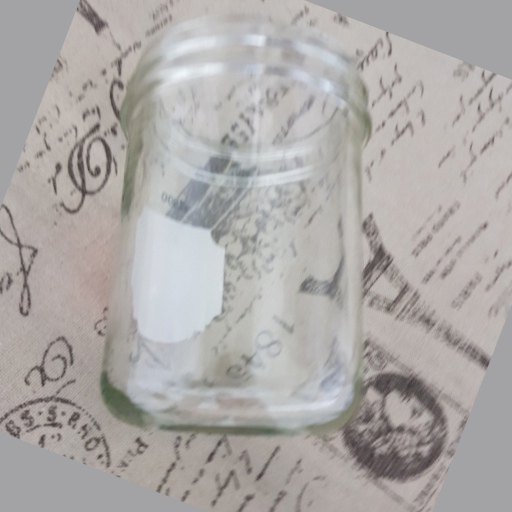Glass_5: (105, 18, 368, 434)
